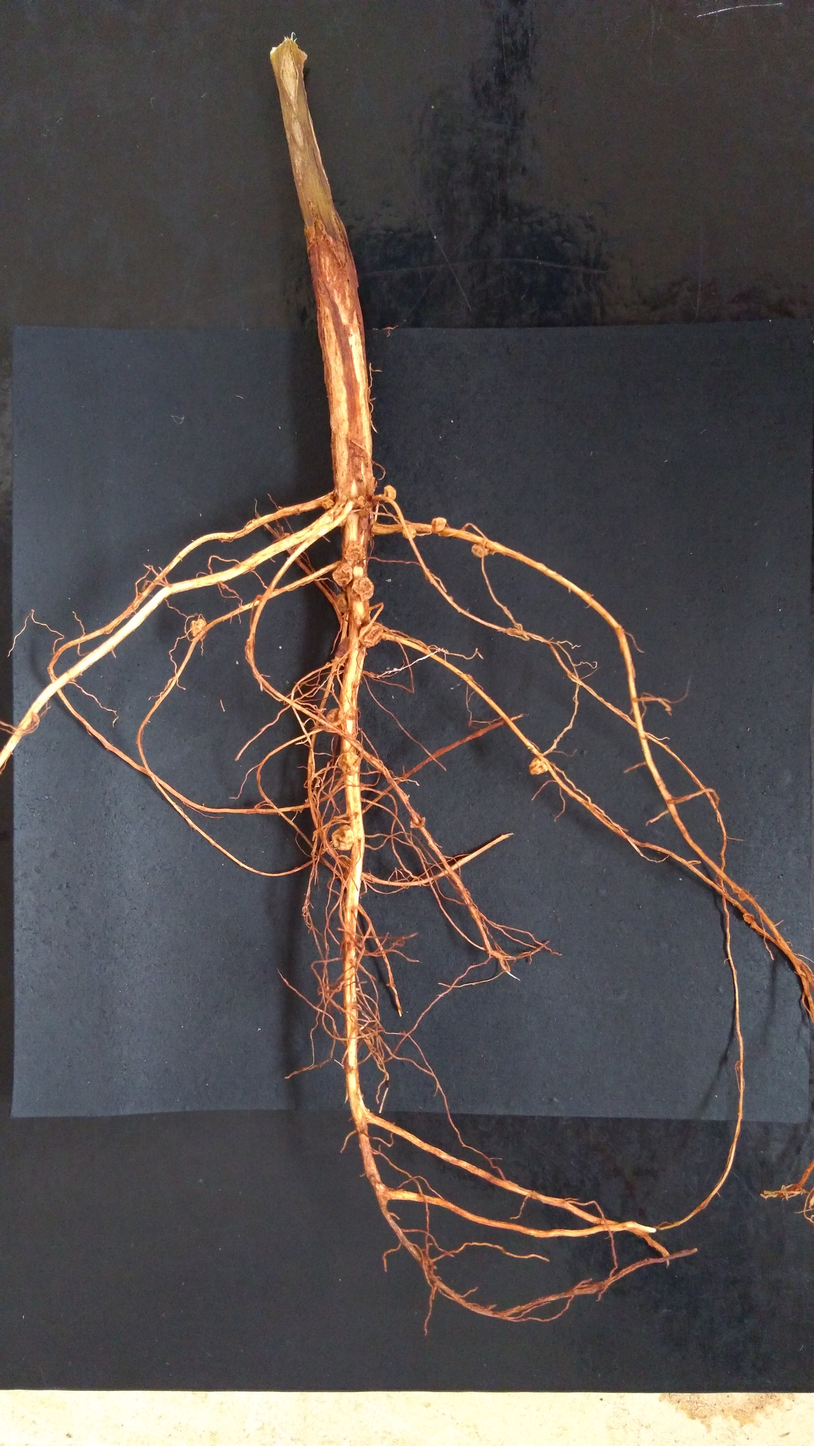nodule: (359, 622, 385, 648), (331, 824, 355, 851), (341, 540, 365, 564), (337, 752, 361, 775), (352, 577, 374, 602), (332, 563, 353, 587), (325, 708, 341, 732), (530, 757, 549, 775), (335, 591, 350, 613), (189, 618, 206, 637), (357, 508, 371, 530), (335, 637, 350, 657), (471, 543, 490, 558), (333, 507, 347, 527), (410, 811, 425, 829), (432, 517, 447, 533), (384, 484, 396, 503), (401, 524, 416, 539), (343, 708, 357, 721), (742, 912, 754, 924), (321, 499, 335, 509), (738, 889, 748, 901), (357, 495, 365, 508), (284, 533, 290, 537)
